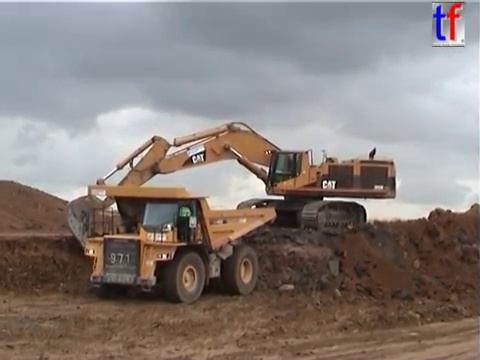excavator: (64, 119, 399, 253)
truck: (80, 183, 278, 303)
worker: (175, 198, 193, 243)
